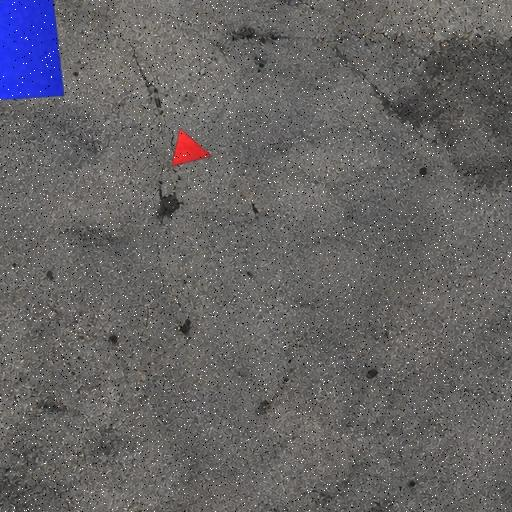BLUE_SQUARE: (0, 0, 65, 103)
